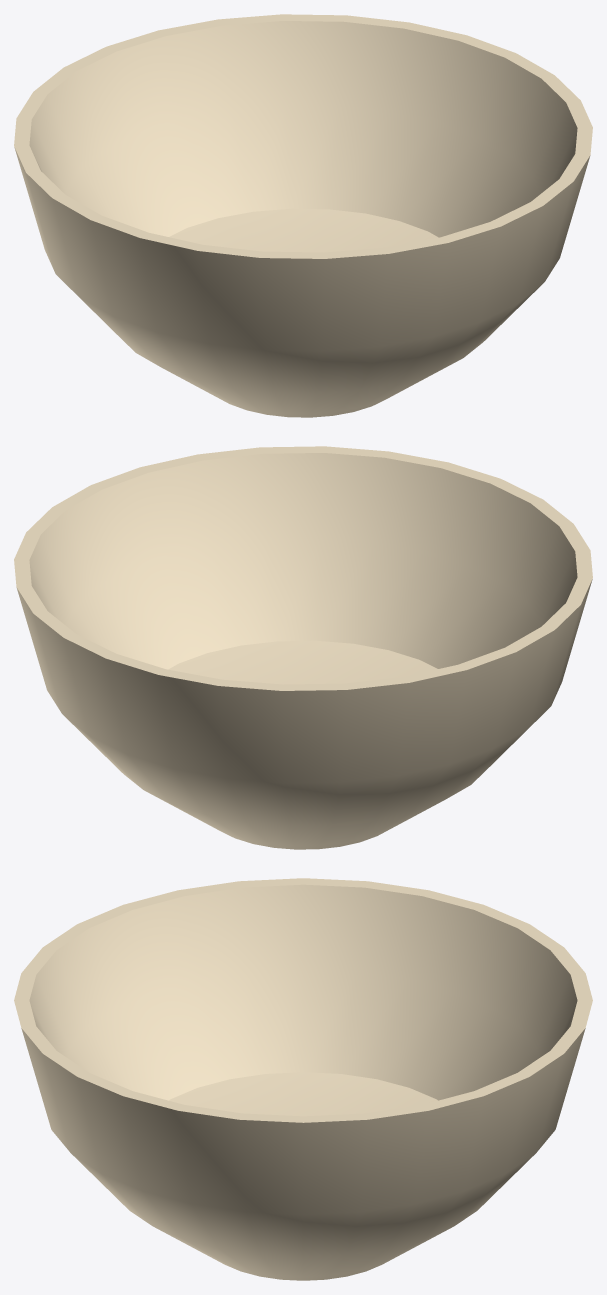
File: bowl.glb
3 renders of one model, top to bottom at view 1: azimuth 30°, elevation 25°; view 2: azimuth 150°, elevation 25°; view 3: azimuth 270°, elevation 25°, orthographic.
Visible parts, largest first — view 1: bowl; view 2: bowl; view 3: bowl.
Boxes of the visible parts, box(x1,y1,x2,y2) form: bowl: box(14, 14, 592, 417); bowl: box(14, 446, 592, 849); bowl: box(14, 878, 592, 1280).
Size of the model in its own units: 0.09 by 0.0408 by 0.09.
